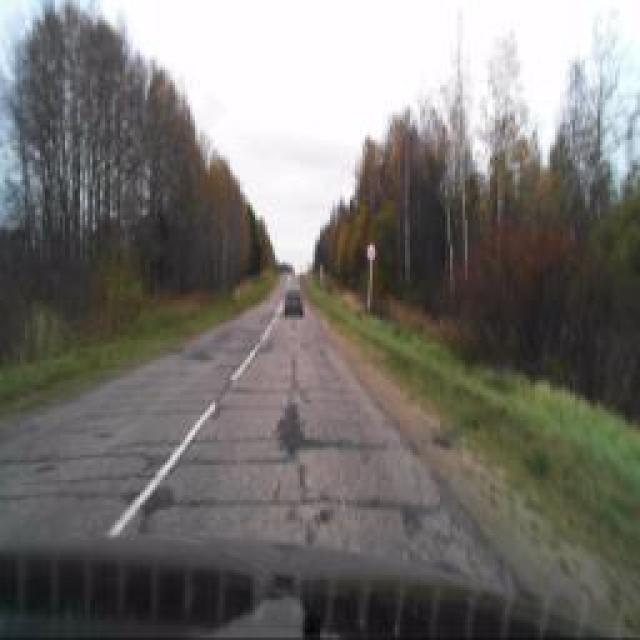sign: (366, 241, 376, 261)
